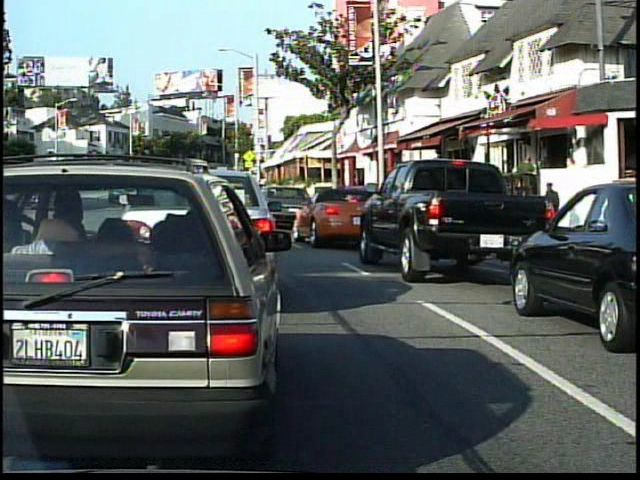person: (514, 151, 539, 204)
